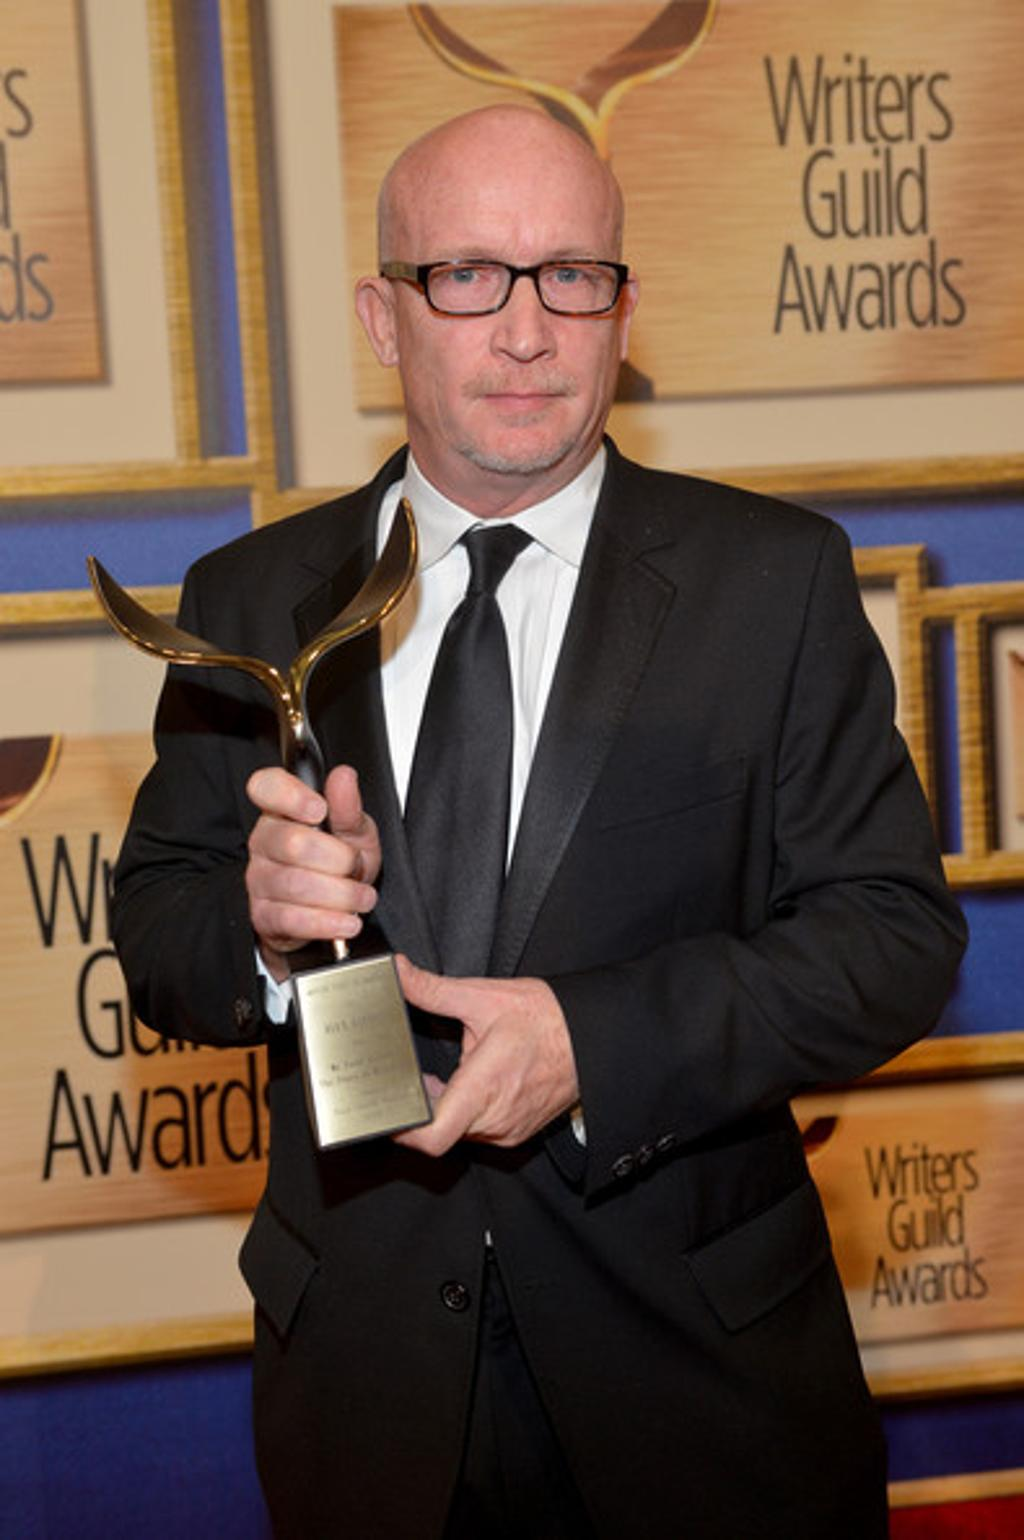face: (392, 114, 624, 469)
